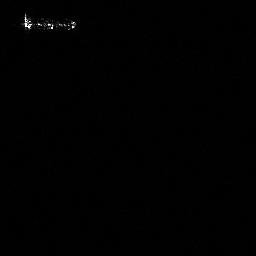ship: (22, 13, 80, 33)
